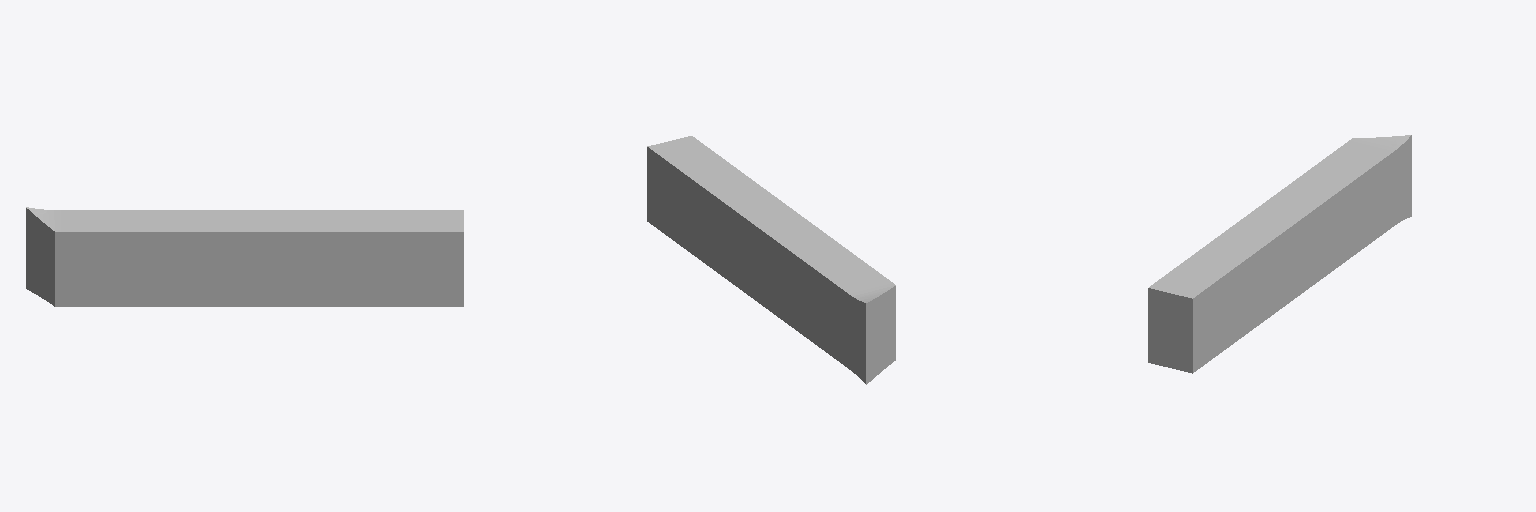
The model's file is SpatulaHandle.obj.
The picture shows the model from 3 angles: view 1: azimuth 30°, elevation 25°; view 2: azimuth 150°, elevation 25°; view 3: azimuth 270°, elevation 25°; orthographic projection.
Bounding box in the file's own units: 0.1167 × 0.0278 × 0.0811.